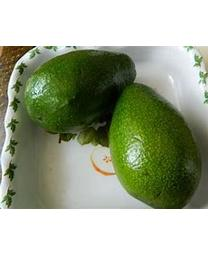avocado: (108, 80, 203, 209), (23, 48, 136, 134)
